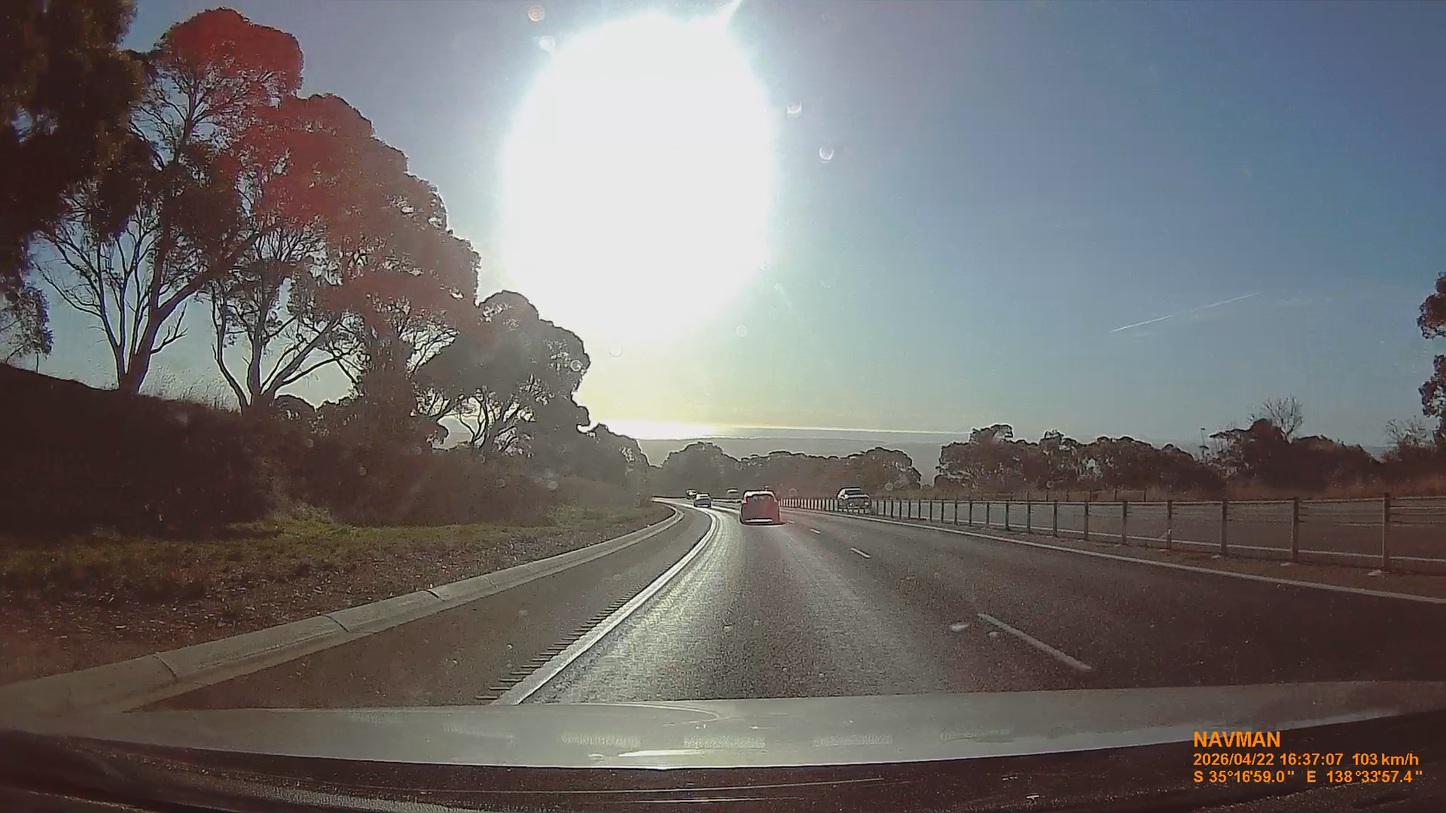fences: (868, 495, 1445, 571)
